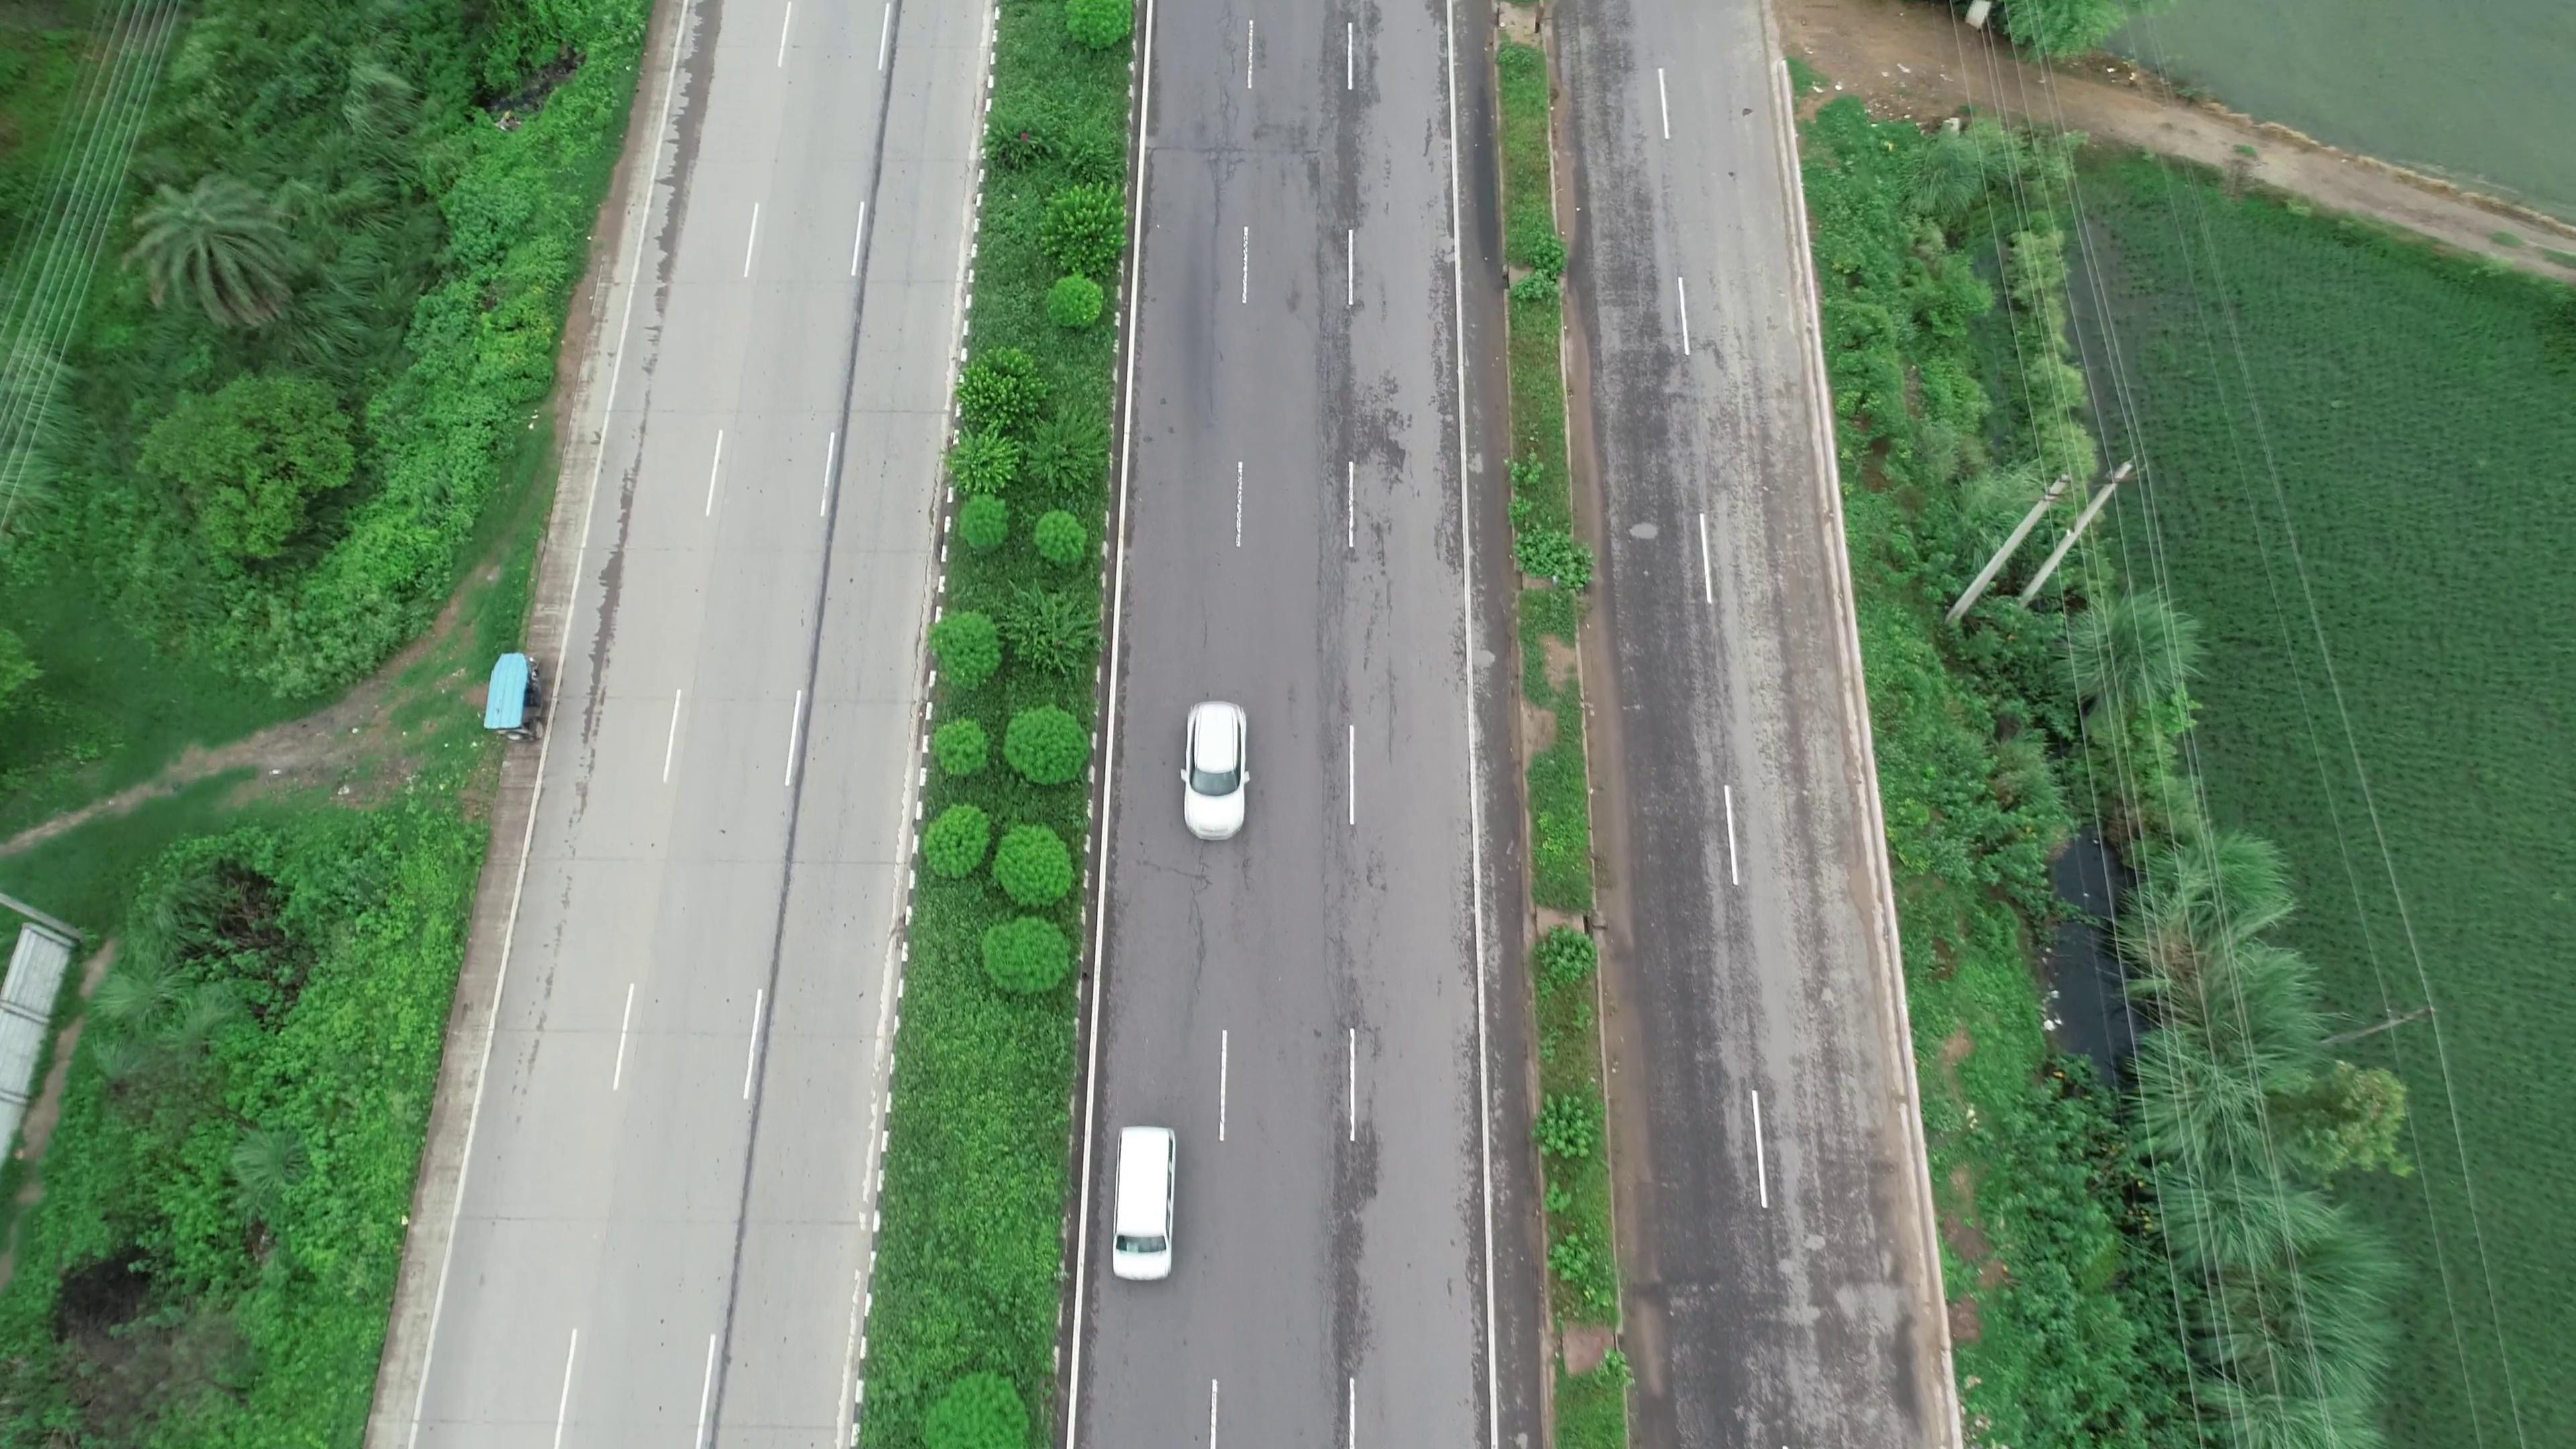Longitudinal_cracks: (1198, 4, 1249, 235)
Ravelling: (1304, 9, 1405, 490), (1325, 1115, 1392, 1369)
